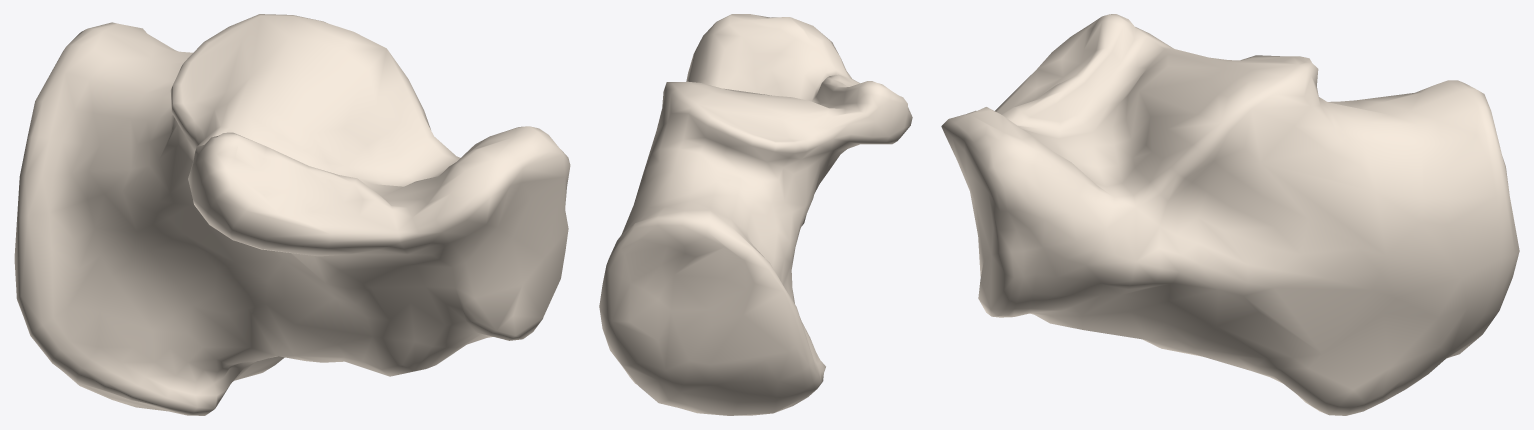
Rendered from left_calcaneus.glb.
3 renders of one model, left to right at view 1: azimuth 30°, elevation 25°; view 2: azimuth 150°, elevation 25°; view 3: azimuth 270°, elevation 25°, orthographic. The views are drawn at different scales.
Parts seen in each view (by area): view 1: Calcaneus.r; view 2: Calcaneus.r; view 3: Calcaneus.r.
Part boxes in pixels (x1,y1,x2,y2): Calcaneus.r: (14, 14, 570, 415); Calcaneus.r: (599, 14, 912, 415); Calcaneus.r: (941, 14, 1519, 415).
Bounding box in the file's own units: 0.0493 × 0.0511 × 0.0768.
